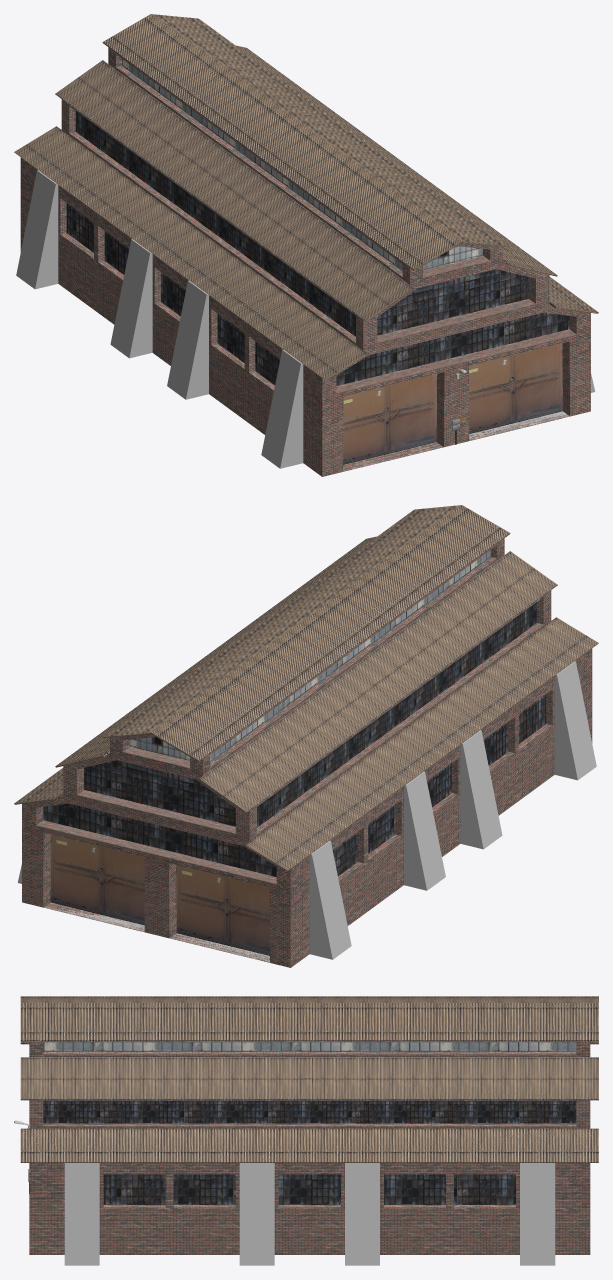
Rendered from t_hall_lod0.fbx.
The picture shows the model from 3 angles, top to bottom: view 1: azimuth 30°, elevation 25°; view 2: azimuth 150°, elevation 25°; view 3: azimuth 270°, elevation 25°; orthographic projection. The views are drawn at different scales.
Visible parts, largest first — view 1: Mesh Object; view 2: Mesh Object; view 3: Mesh Object.
Boxes of the visible parts, <box> form: Mesh Object: <box>14,14,598,476</box>; Mesh Object: <box>14,505,598,967</box>; Mesh Object: <box>20,996,598,1265</box>.
Bounding box in the file's own units: 22.27 × 13.91 × 38.51.
